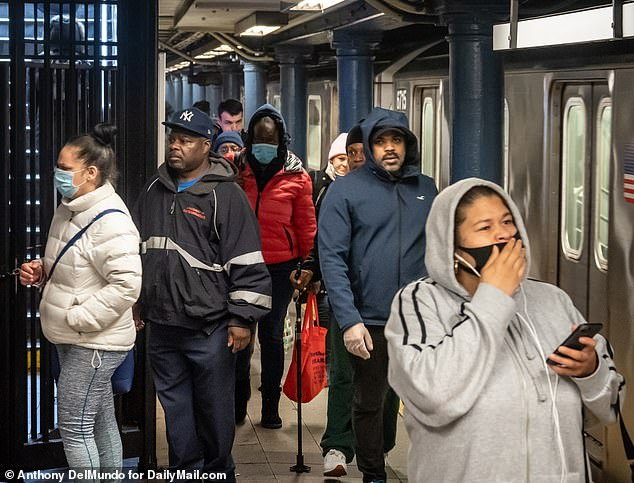with_incorrect_mask: (467, 209, 526, 278)
with_mask: (53, 153, 84, 198), (250, 129, 281, 167)
without_mask: (164, 128, 197, 170), (371, 135, 405, 169)
